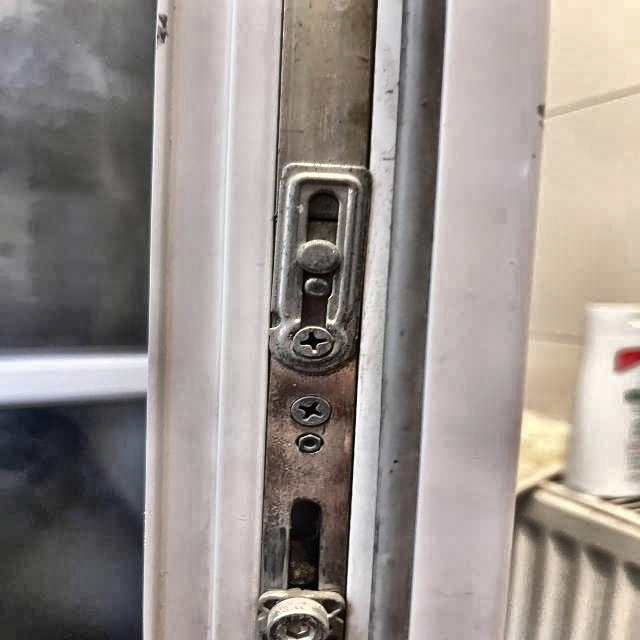allen: (298, 435, 322, 453)
phillips: (292, 326, 334, 358), (290, 395, 333, 426)
